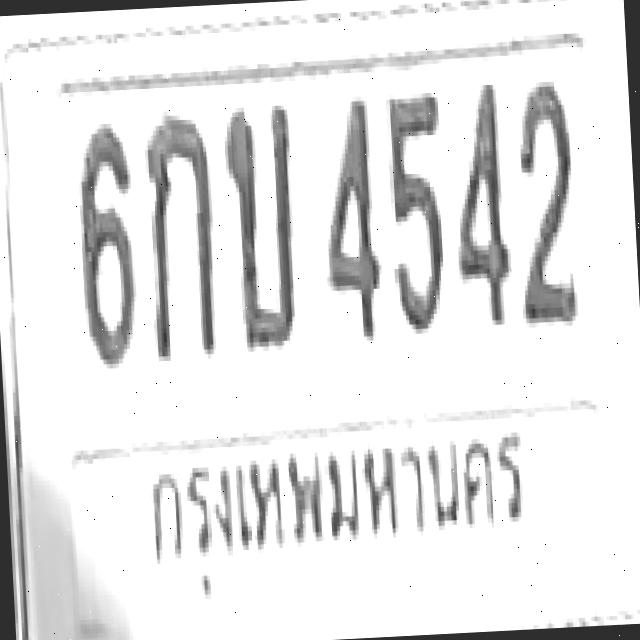10GorGai: (142, 108, 218, 362)
2: (510, 76, 580, 328)
35BorBaiMai: (221, 102, 301, 350)
4: (316, 94, 384, 341), (448, 80, 512, 327)
5: (382, 88, 450, 335)
6: (72, 120, 140, 368)
Bangkok: (138, 407, 532, 607)
